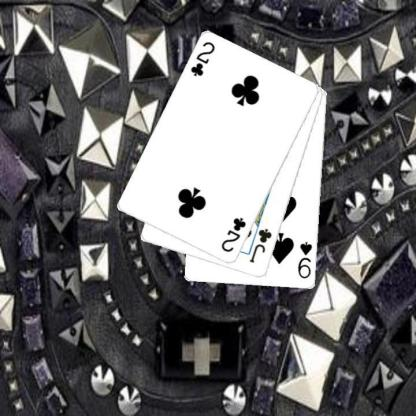2C: (218, 215, 248, 254), (188, 39, 217, 78)
9S: (295, 239, 314, 280)
JC: (248, 226, 274, 264)
